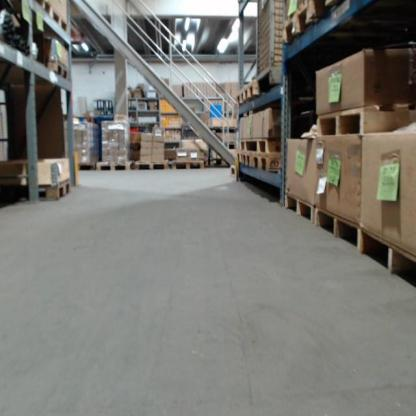pallet: (315, 101, 416, 138), (357, 228, 416, 289), (313, 207, 362, 251), (283, 0, 326, 43), (282, 194, 315, 224), (39, 177, 70, 201), (253, 150, 281, 174), (50, 8, 69, 32), (96, 160, 135, 171), (244, 79, 260, 103), (170, 160, 205, 170), (54, 62, 69, 81), (135, 162, 170, 170), (236, 90, 245, 107), (244, 148, 252, 166)
stillage: (255, 1, 289, 90)
